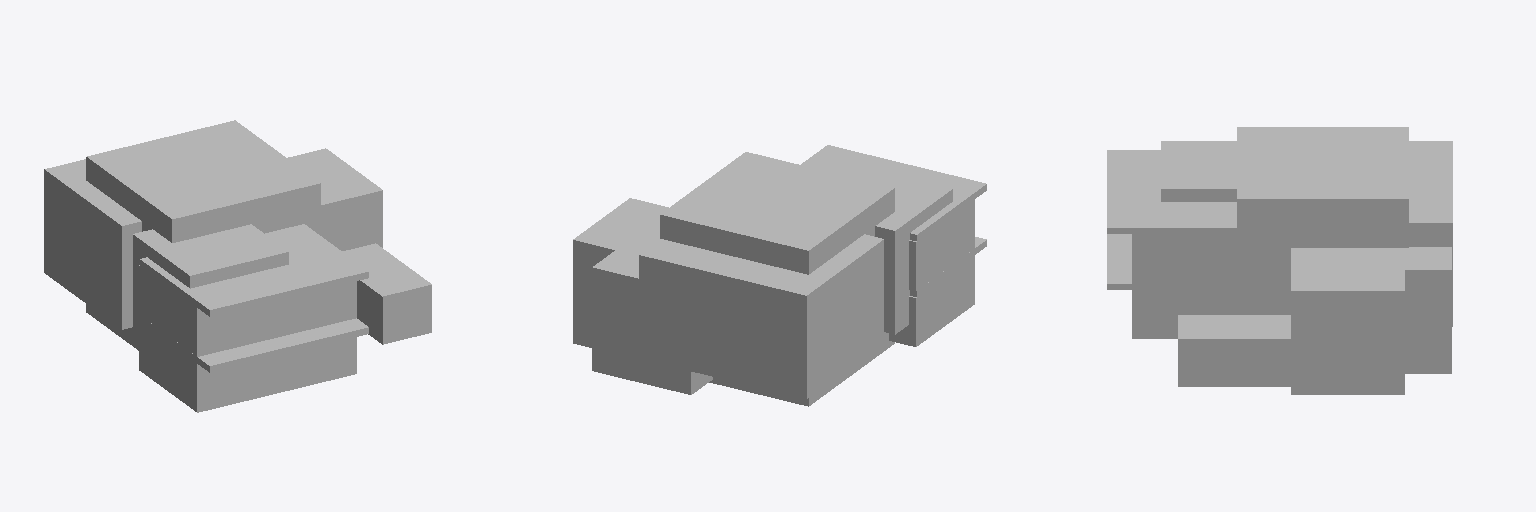
File: ParasiteHouse.obj
3 renders of one model, left to right at view 1: azimuth 30°, elevation 25°; view 2: azimuth 150°, elevation 25°; view 3: azimuth 270°, elevation 25°, orthographic.
Parts seen in each view (by area): view 1: pCube1, pCube5, pCube4, pCube7, pCube6, pCube3, pCube2; view 2: pCube7, pCube1, pCube8, pCube5, pCube6, pCube2, pCube4; view 3: pCube1, pCube2, pCube5, pCube3, pCube8, pCube4, pCube7, pCube6.
Part boxes in pixels (x1,y1,x2,y2): pCube1: (86, 120, 320, 350); pCube5: (139, 224, 368, 356); pCube4: (139, 315, 368, 412); pCube7: (44, 159, 141, 329); pCube6: (133, 224, 288, 341); pCube3: (342, 243, 431, 344); pCube2: (288, 148, 382, 250); pCube7: (639, 234, 883, 399); pCube1: (660, 152, 894, 406); pCube8: (592, 225, 712, 394); pCube5: (801, 145, 986, 290); pCube6: (840, 165, 952, 334); pCube2: (573, 198, 668, 347); pCube4: (889, 237, 986, 346); pCube1: (1237, 127, 1408, 314); pCube2: (1291, 248, 1404, 394); pCube5: (1107, 150, 1236, 283); pCube3: (1178, 315, 1290, 386); pCube8: (1337, 247, 1451, 373); pCube4: (1107, 234, 1236, 338); pCube7: (1409, 141, 1452, 326); pCube6: (1161, 141, 1236, 201).
Bounding box in the file's own units: 6.95 × 3.9 × 7.85.